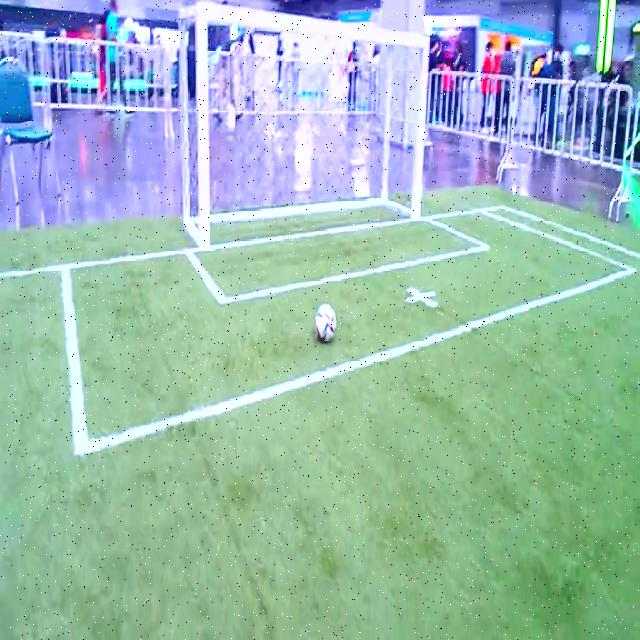ball: (315, 304, 337, 342)
